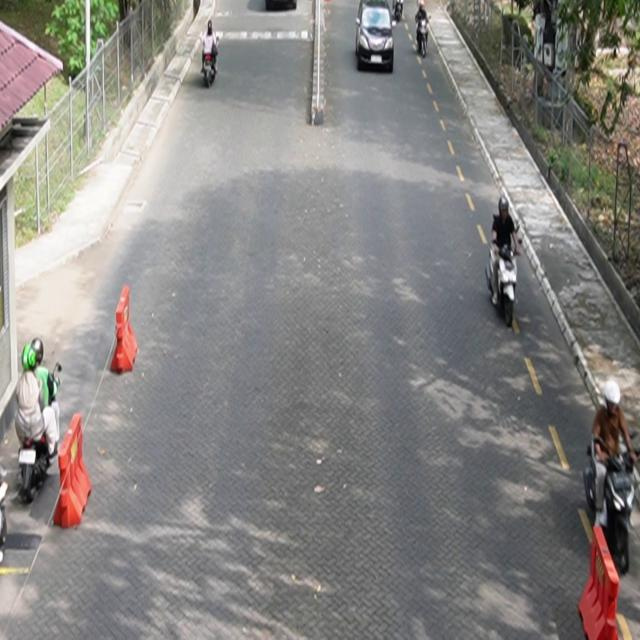car: (355, 1, 397, 73)
